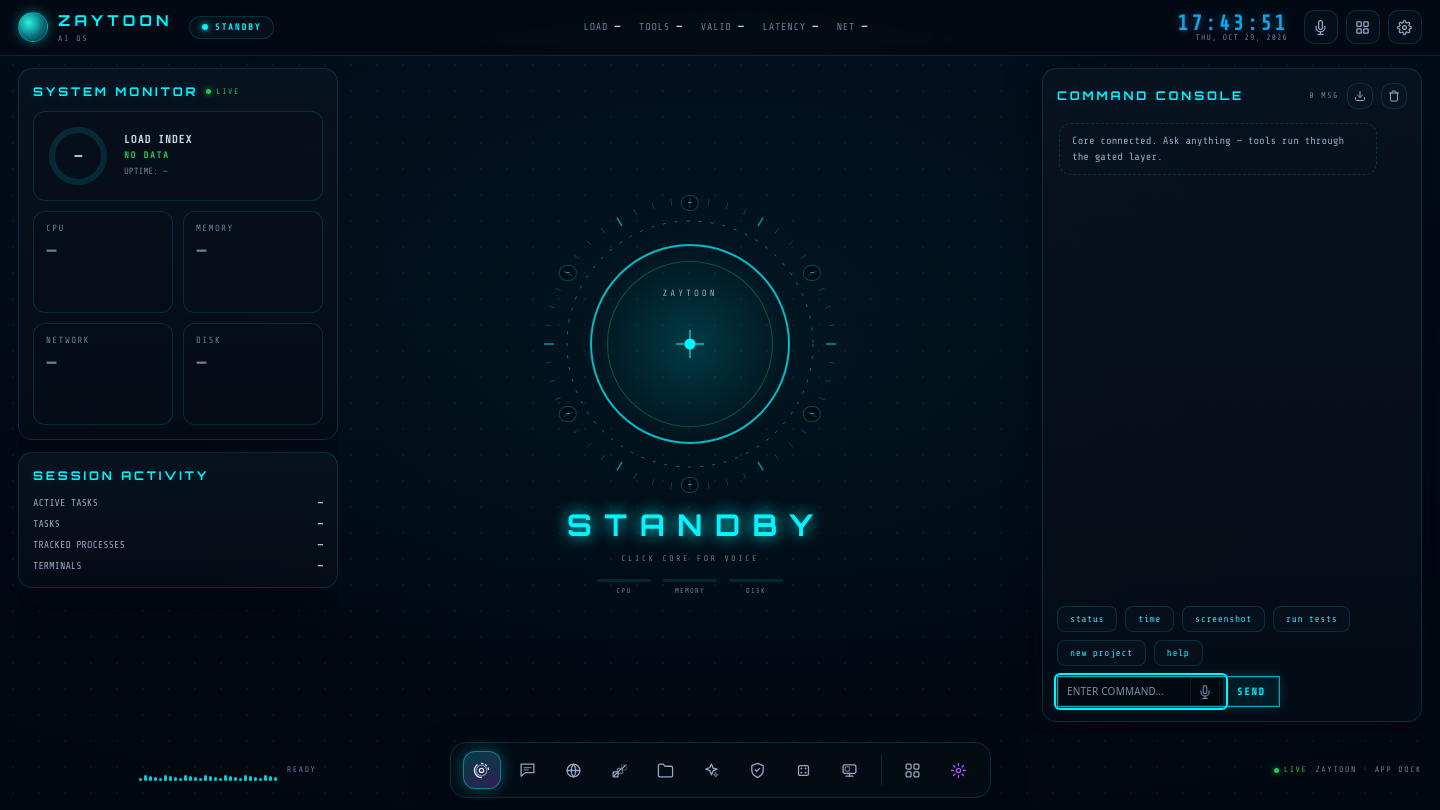
App runtime › always gives the open screen a way to talk to the AI
Expected: the field named "your message" is shown, [1058,677,1224,706]
Click the button named "Computer": point(574, 770) [554,751,592,789]
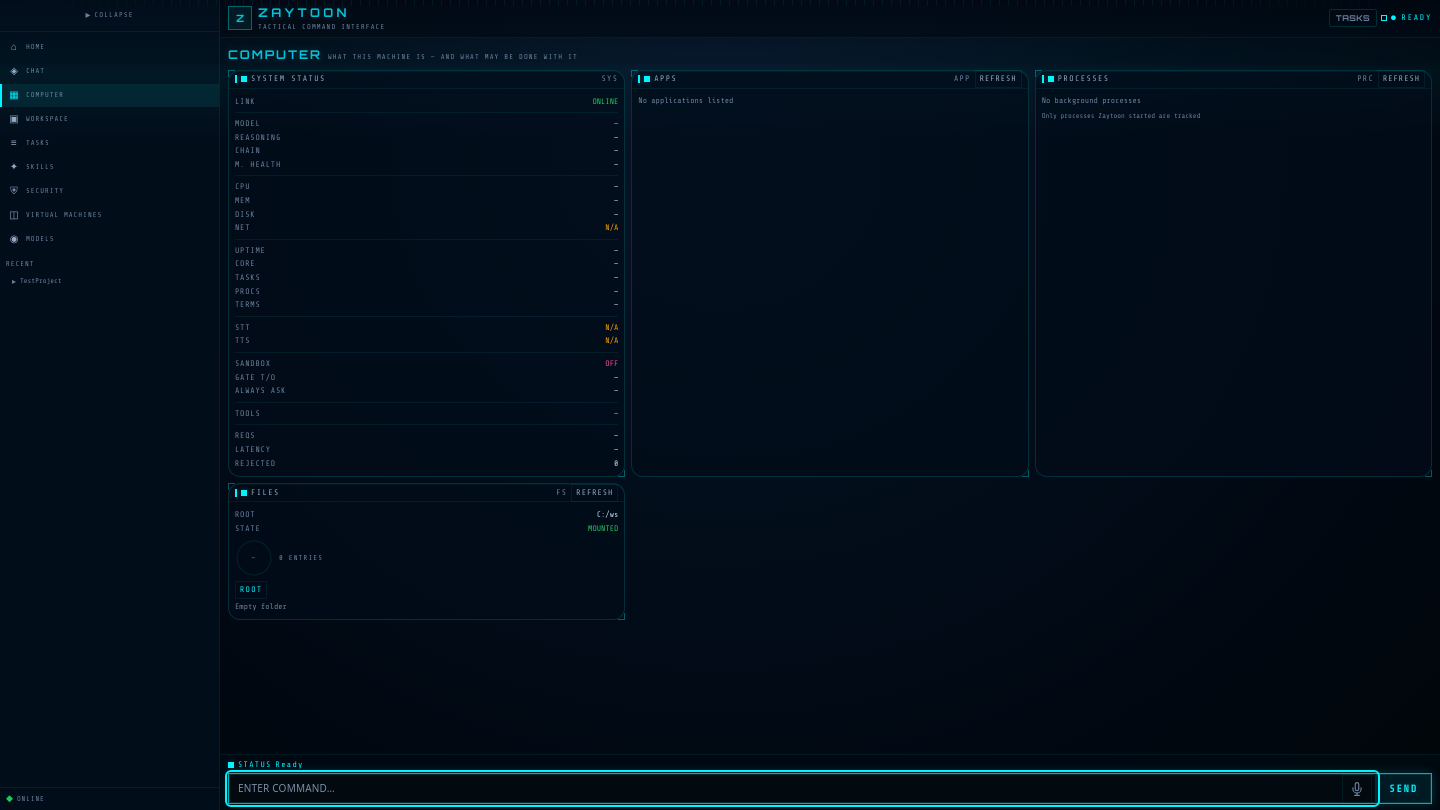
Expected: the number of fields named "your message" is 1, [229,774,1376,803]
Result: the element with test id "ai-floating-bar" is shown at [220,754,1439,809]
